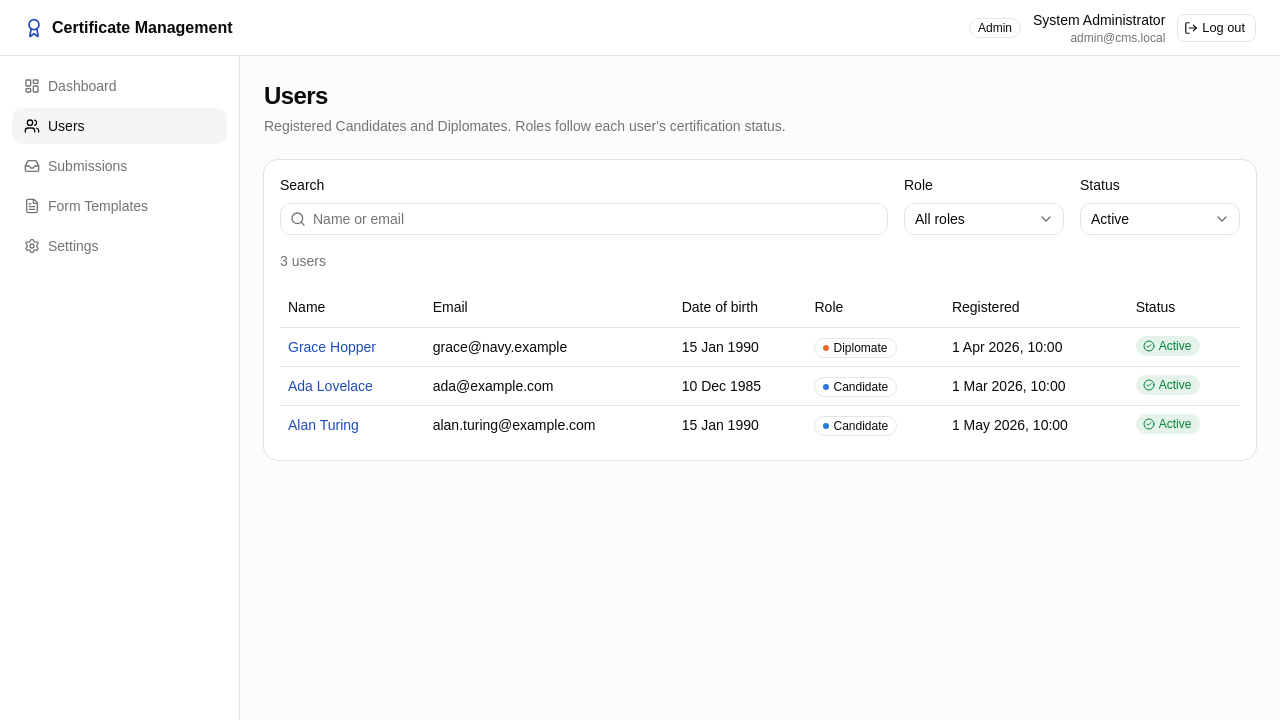
Test case: user details › loads the requested user without password data
The width and height of the screenshot is (1280, 720).
Click the link "Alan Turing". click: point(302, 425)
box: [288,417,359,433]
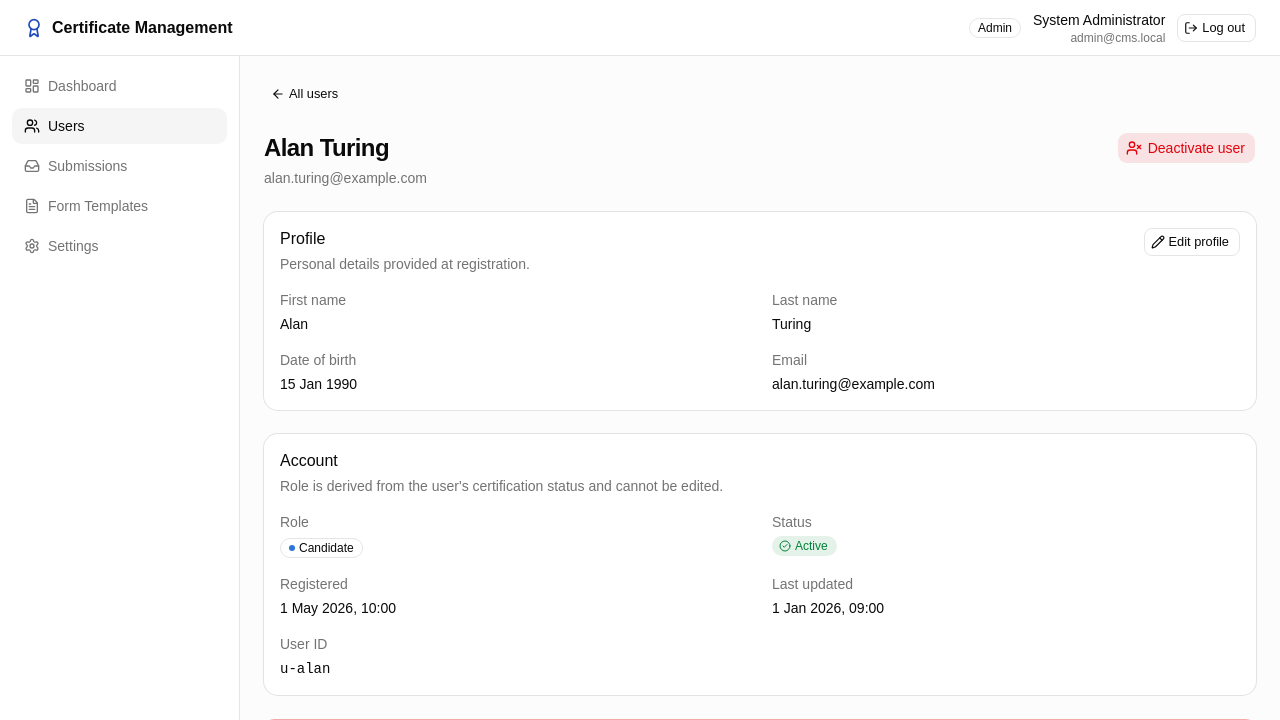
Now the heading "Alan Turing" is shown, box [264,134,389,161]
Now the text "alan.turing@example.com" below "Email" is shown, box [772,376,935,392]
Now the text "u-alan" is shown, box [280,661,330,677]
